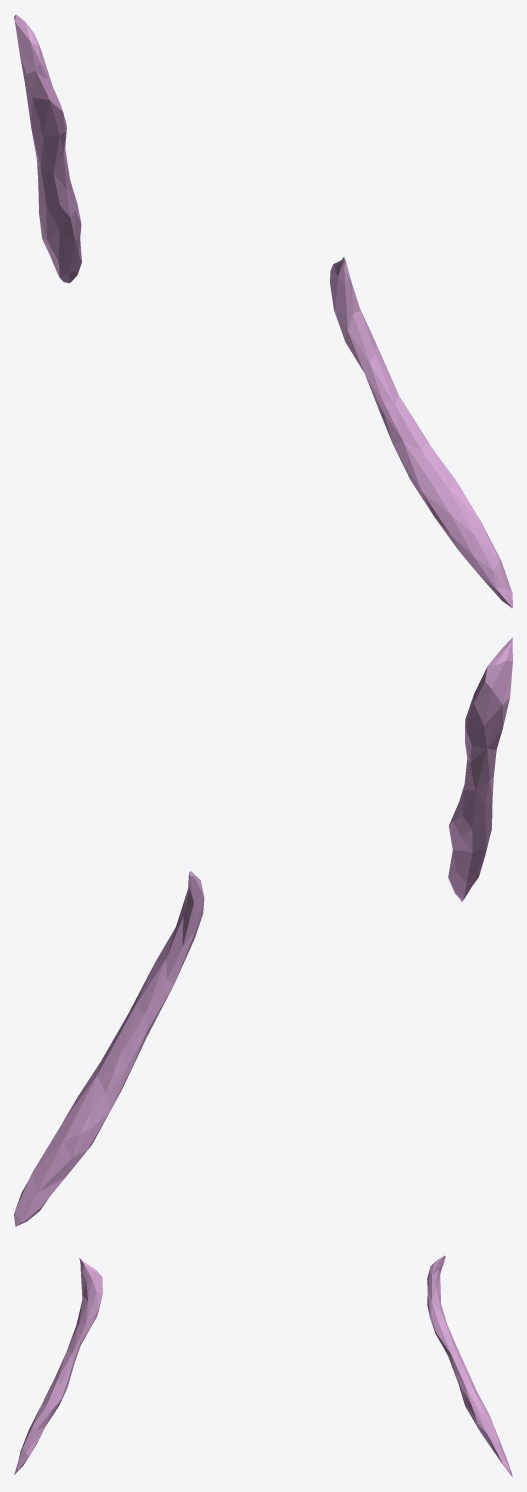
3 renders of one model, top to bottom at view 1: azimuth 30°, elevation 25°; view 2: azimuth 150°, elevation 25°; view 3: azimuth 270°, elevation 25°, orthographic. The views are drawn at different scales.
Visible parts, largest first — view 1: 58.obj; view 2: 58.obj; view 3: 58.obj.
Boxes of the visible parts, box(x1,y1,x2,y2) form: 58.obj: box(14, 14, 512, 608); 58.obj: box(14, 637, 512, 1226); 58.obj: box(14, 1255, 512, 1476).
Size of the model in its own units: 414 by 1082 by 2562.
